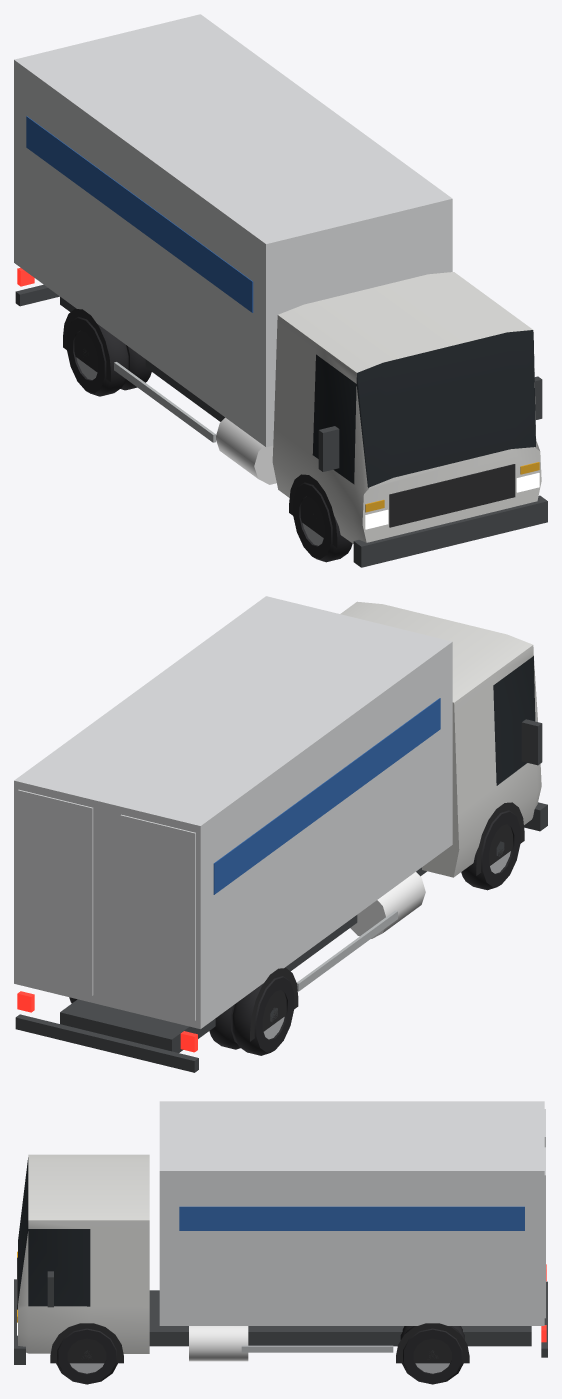
Rendered from truck.glb.
3 renders of one model, top to bottom at view 1: azimuth 30°, elevation 25°; view 2: azimuth 150°, elevation 25°; view 3: azimuth 270°, elevation 25°, orthographic. The views are drawn at different scales.
Visible parts, largest first — view 1: truck; view 2: truck; view 3: truck.
Boxes of the visible parts, x1,y1,x2,y2 form: truck: (14, 14, 547, 567); truck: (14, 596, 547, 1072); truck: (14, 1101, 547, 1384).
Bounding box in the file's own units: 0.1764 × 0.216 × 0.4866.
